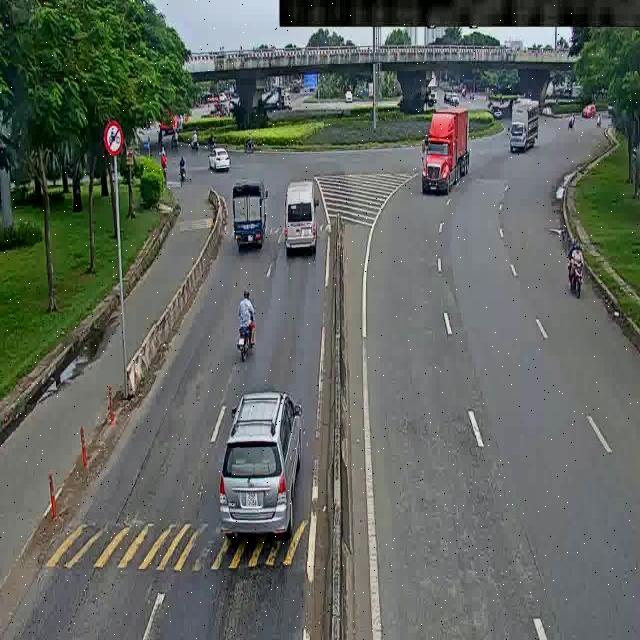car: (218, 384, 300, 536), (283, 170, 324, 256), (206, 143, 231, 174), (578, 99, 598, 115)
motorbike: (233, 287, 278, 359), (560, 241, 593, 296), (176, 155, 191, 186), (184, 130, 204, 153), (158, 145, 171, 180), (202, 127, 221, 150), (232, 135, 256, 150), (567, 110, 580, 130)
truck: (415, 96, 477, 200), (228, 183, 278, 257), (509, 91, 543, 157), (158, 103, 196, 131)
